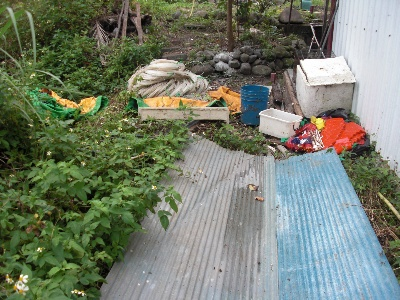box: (259, 105, 303, 139)
bucket: (239, 83, 271, 127)
plastic_bag: (123, 86, 243, 116), (29, 85, 107, 116)
styrofoam: (295, 60, 356, 120)
